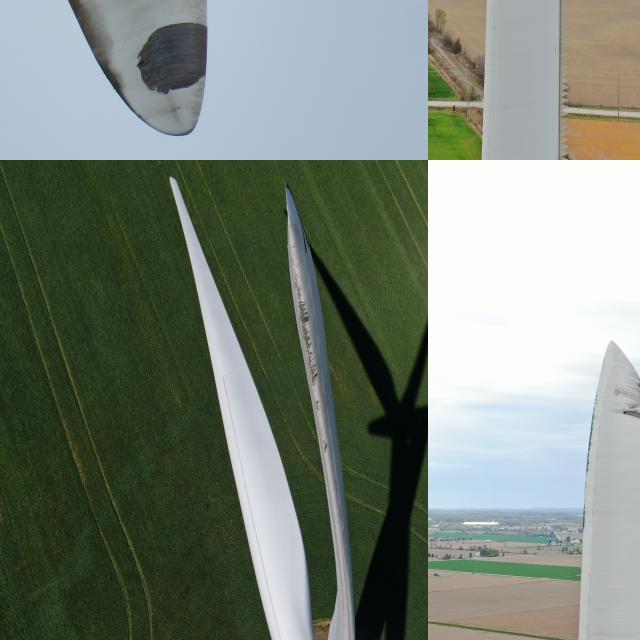damage: (290, 261, 330, 457), (126, 19, 218, 97), (585, 406, 597, 480), (630, 381, 639, 471), (581, 501, 589, 532), (622, 408, 628, 416)
